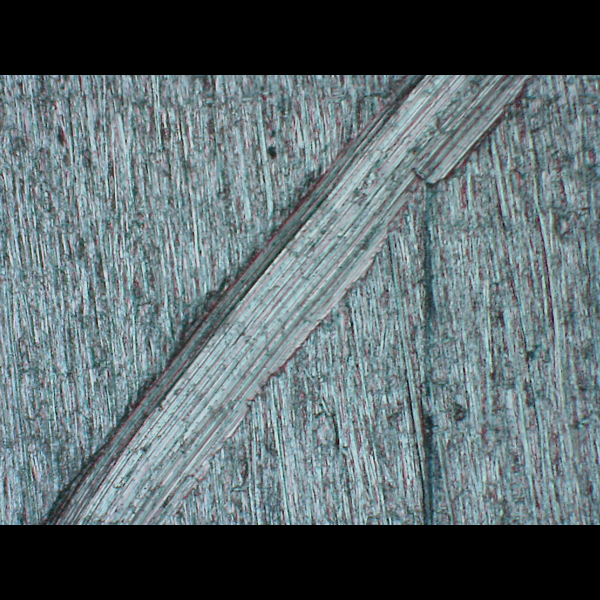d: (36, 75, 545, 524)
